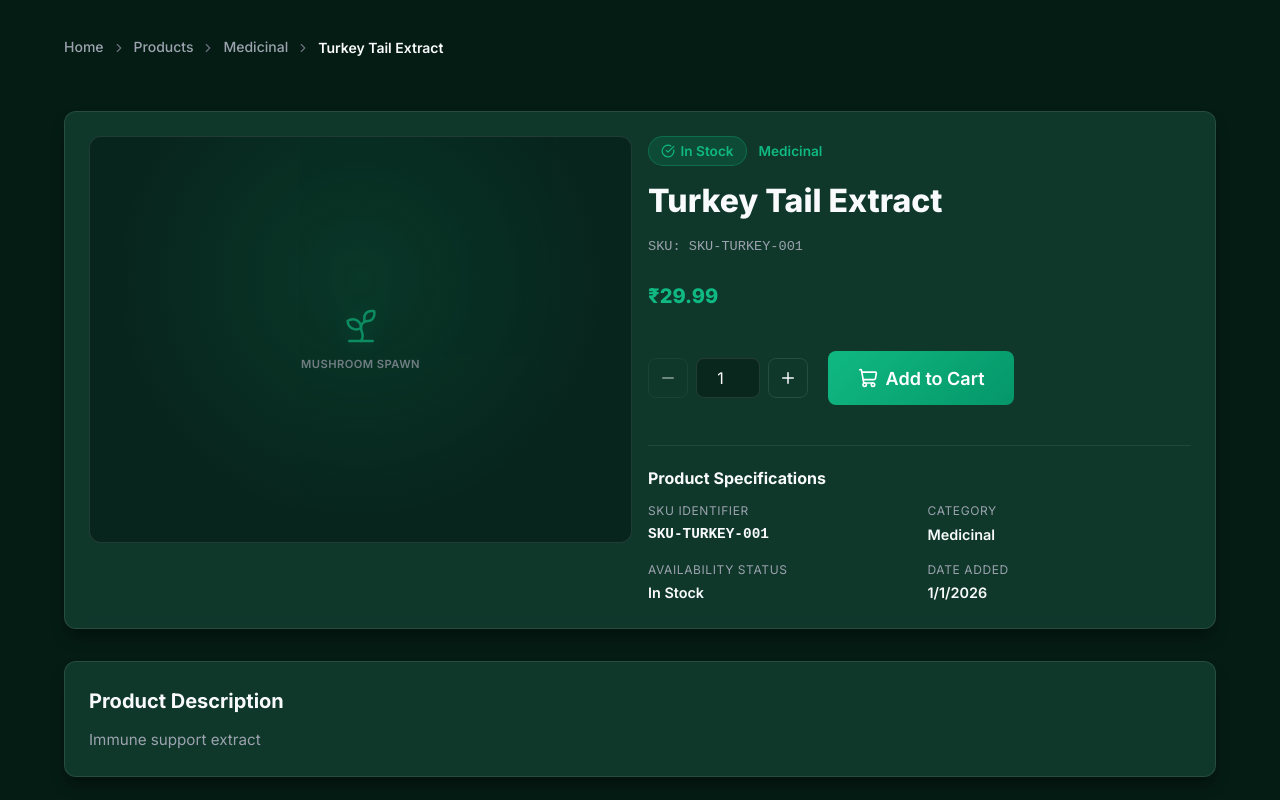
Scenario: ProductDetailPage (FD-10) › adds a selected quantity to the cart and syncs the cart cache
Check: the element with test id "product-detail-card" is shown, box left=64, top=111, right=1216, bottom=629
Click the button named "Increase quantity" at x=788, y=378, box left=768, top=358, right=808, bottom=398
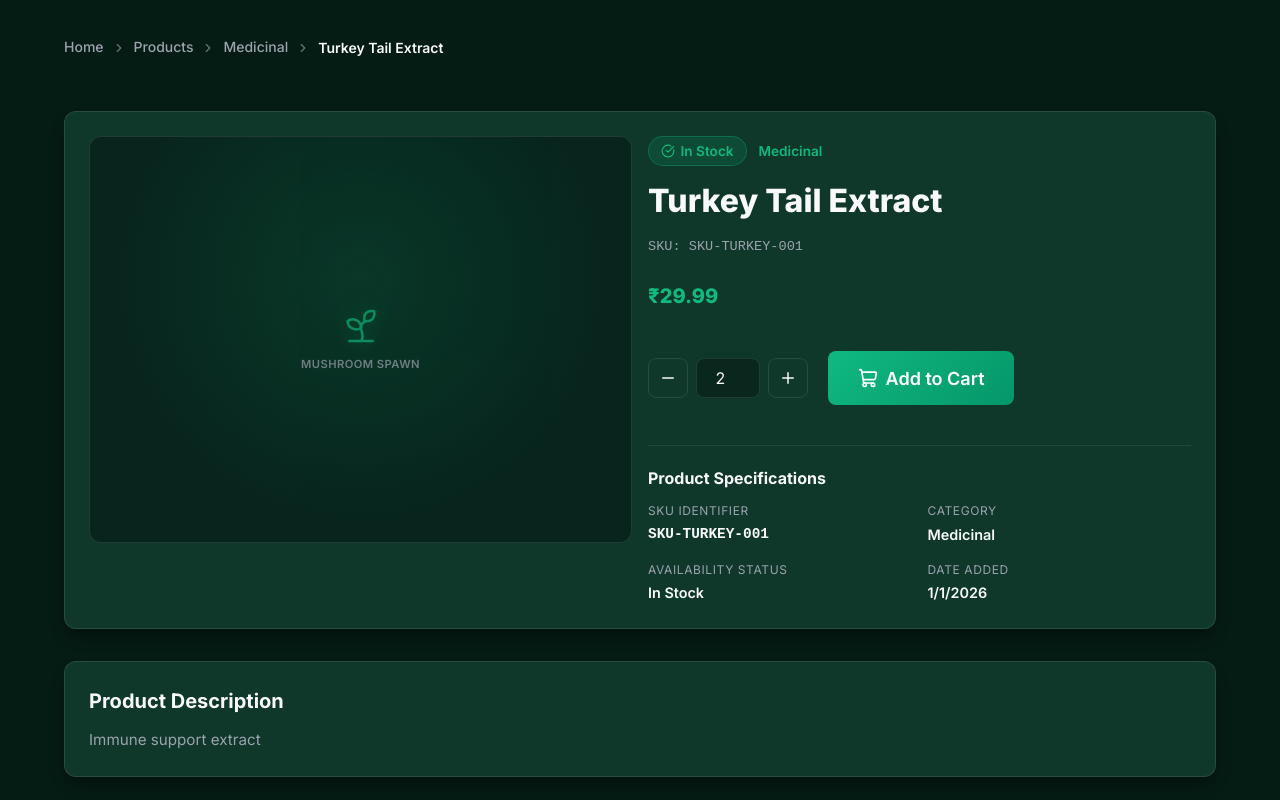
Click the button named "Increase quantity" at x=788, y=378, box left=768, top=358, right=808, bottom=398
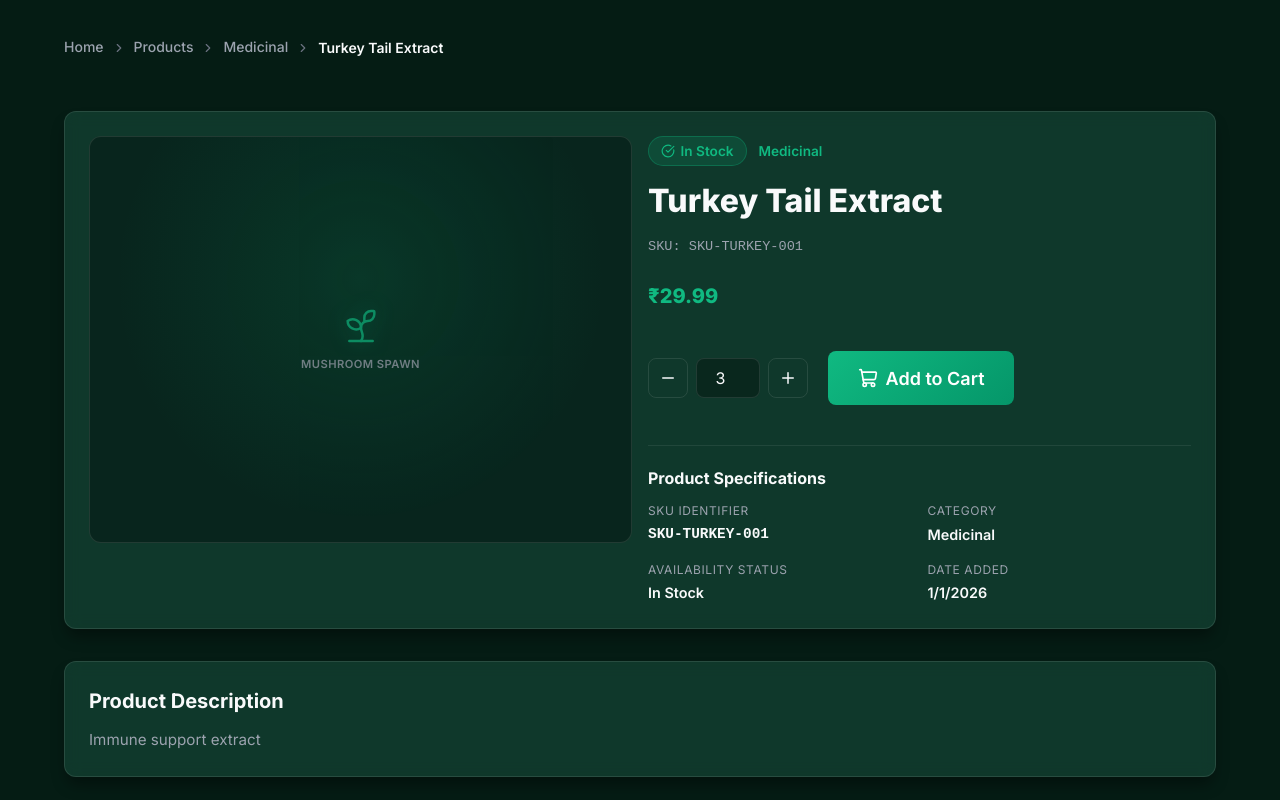
Click the button "Add to Cart" at x=921, y=378, box left=828, top=351, right=1014, bottom=405
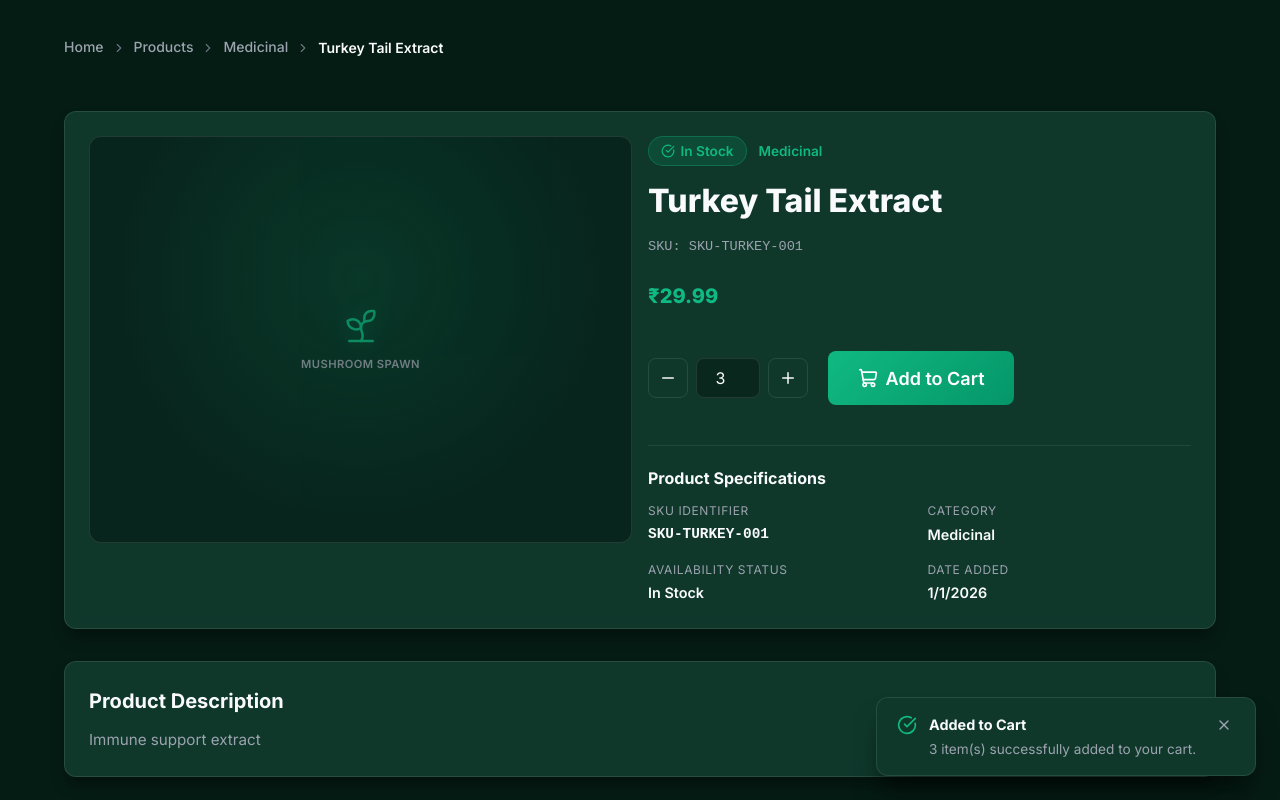
Check: the text "Added to Cart" is shown, box left=929, top=716, right=1026, bottom=733
